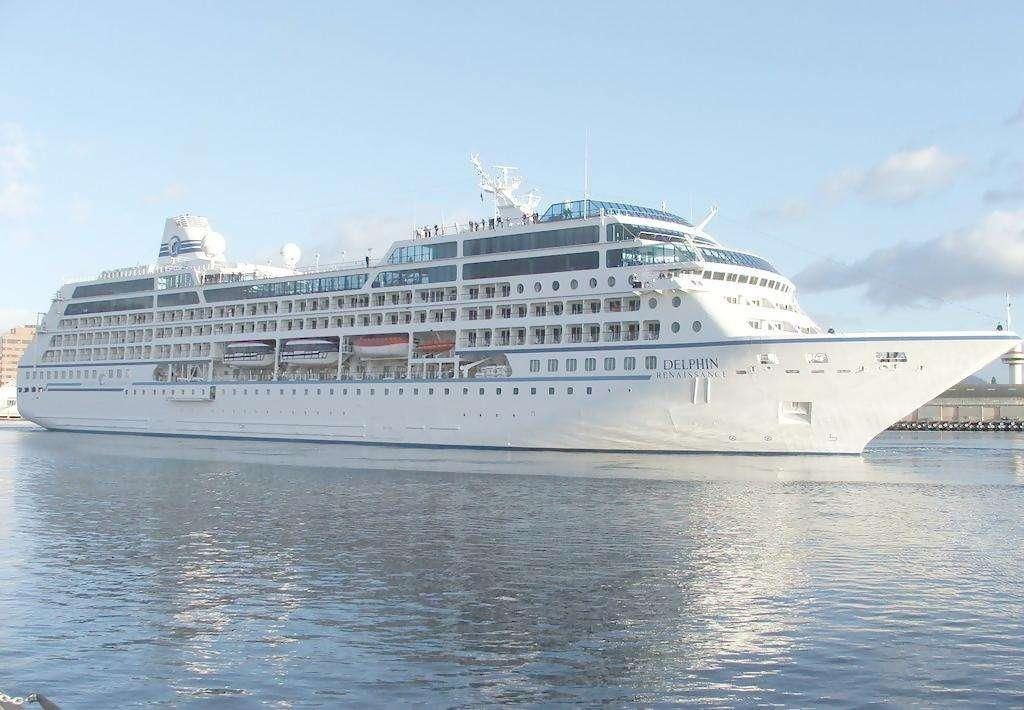youlun: (3, 184, 1015, 453)
